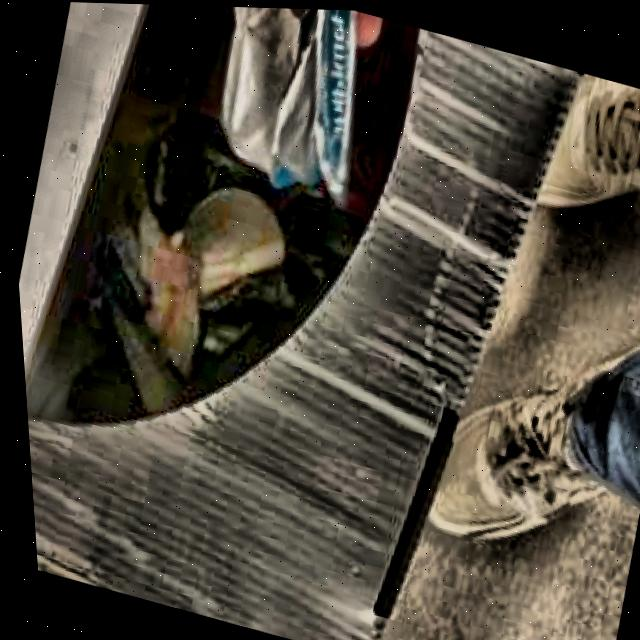plastic: (219, 5, 358, 202)
